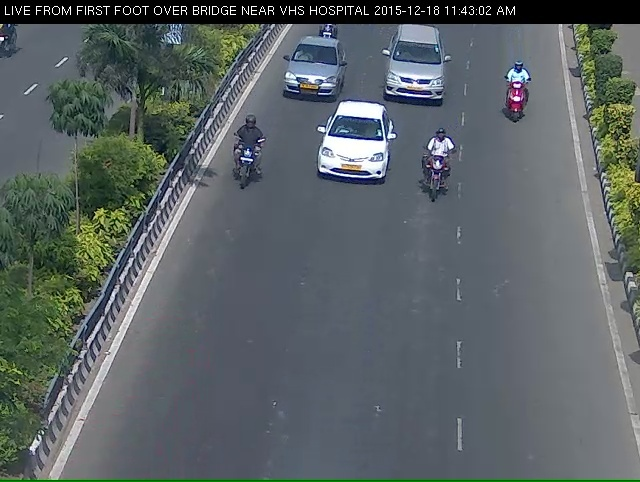Car: (379, 31, 464, 117), (315, 112, 393, 198), (279, 48, 339, 115)
Person: (217, 131, 263, 201), (418, 138, 454, 213), (504, 70, 532, 139), (308, 12, 343, 52), (310, 11, 342, 51)
